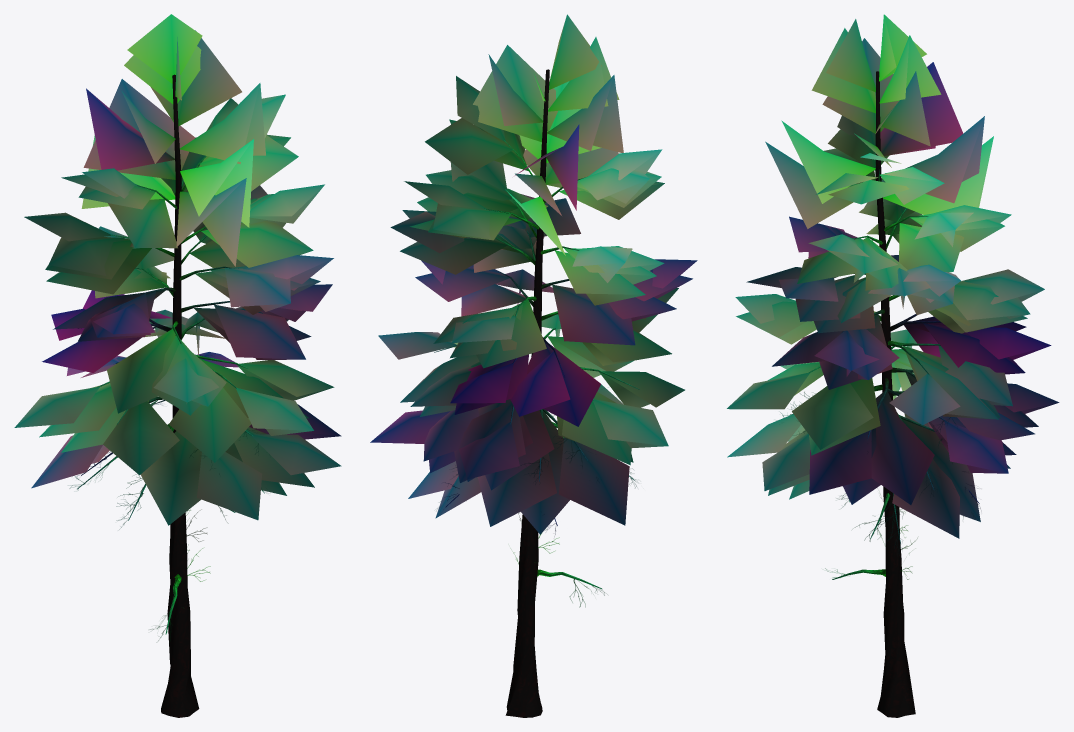
Rendered from spruce.gltf.
The picture shows the model from 3 angles, left to right: view 1: azimuth 30°, elevation 25°; view 2: azimuth 150°, elevation 25°; view 3: azimuth 270°, elevation 25°; orthographic projection. The views are drawn at different scales.
Visible parts, largest first — view 1: Tree_1, Tree_0, Tree_2; view 2: Tree_1, Tree_0, Tree_2; view 3: Tree_1, Tree_0, Tree_2.
Part boxes in pixels (box(x1,y1,x2,y2)): Tree_1: box(14, 14, 341, 525); Tree_0: box(77, 74, 264, 717); Tree_2: box(69, 355, 264, 642); Tree_1: box(370, 14, 697, 534); Tree_0: box(434, 69, 639, 717); Tree_2: box(437, 388, 636, 607); Tree_1: box(727, 14, 1059, 538); Tree_0: box(808, 71, 979, 717); Tree_2: box(776, 392, 980, 579).
Bounding box in the file's own units: 2.35 × 5.43 × 2.38.
